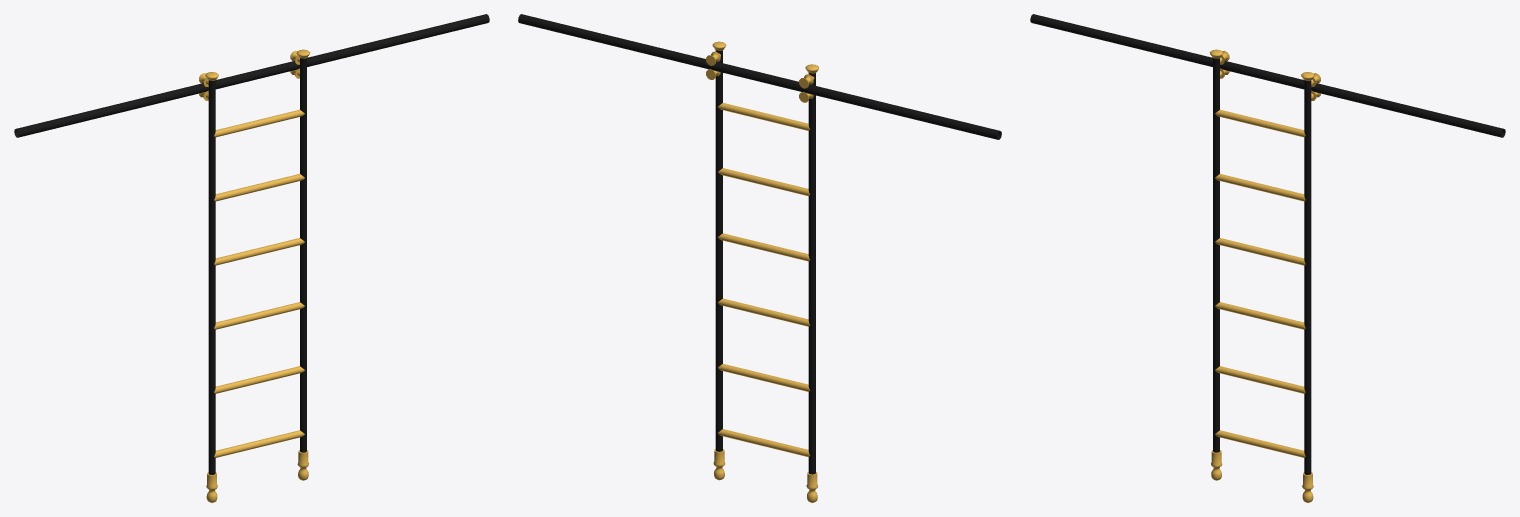
Rendered from ladder.fbx.
3 views of the same model, side by side, from view 1: azimuth 30°, elevation 25°; view 2: azimuth 150°, elevation 25°; view 3: azimuth 330°, elevation 25° (orthographic).
Visible parts, largest first — view 1: ladder, railing; view 2: ladder, railing; view 3: ladder, railing.
Boxes of the visible parts, x1,y1,x2,y2 form: ladder: (199,49,310,502); railing: (14,14,489,137); ladder: (706,41,818,502); railing: (518,14,1001,139); ladder: (1209,49,1320,502); railing: (1030,14,1505,137).
Bounding box in the file's own units: 1076 × 936 × 47.14.
